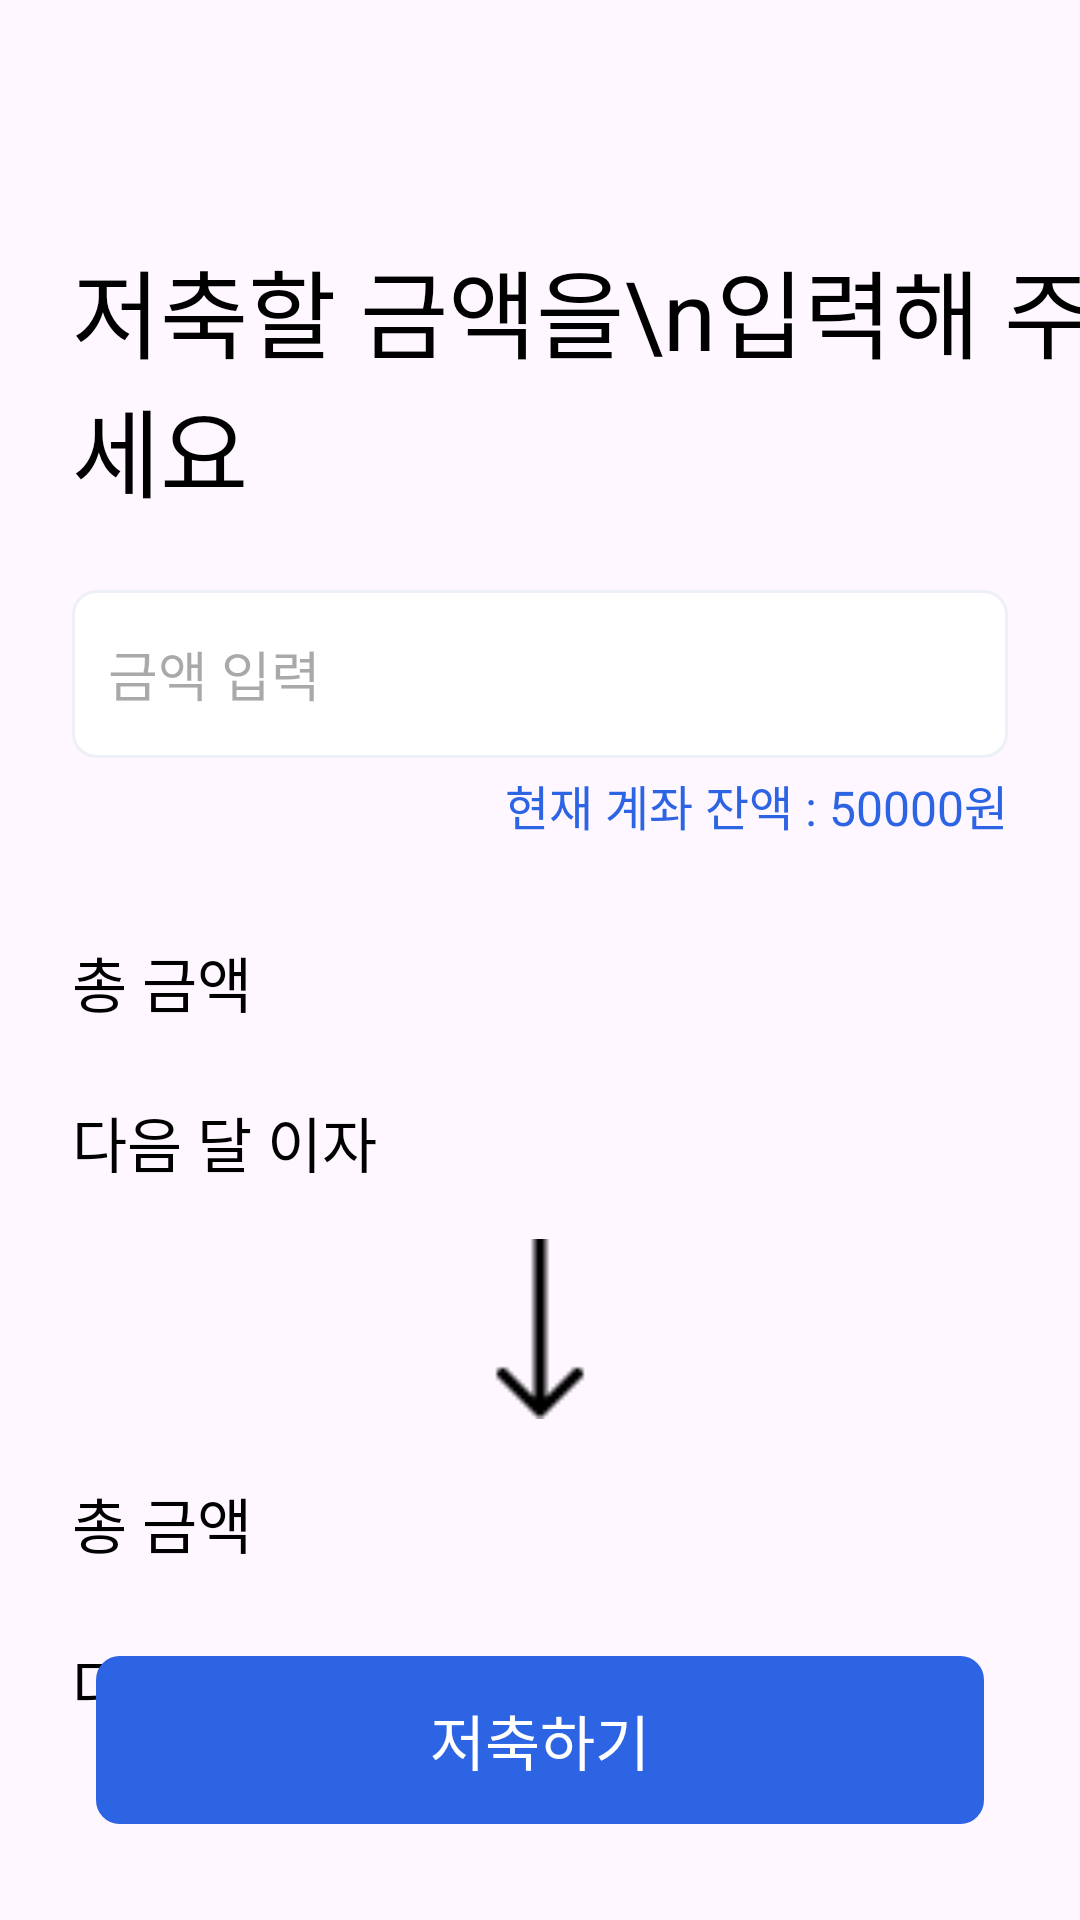

Named icons in this screenshot (1080*1920) and their centers, [x,y]:
arrow downward: [540,1329]
